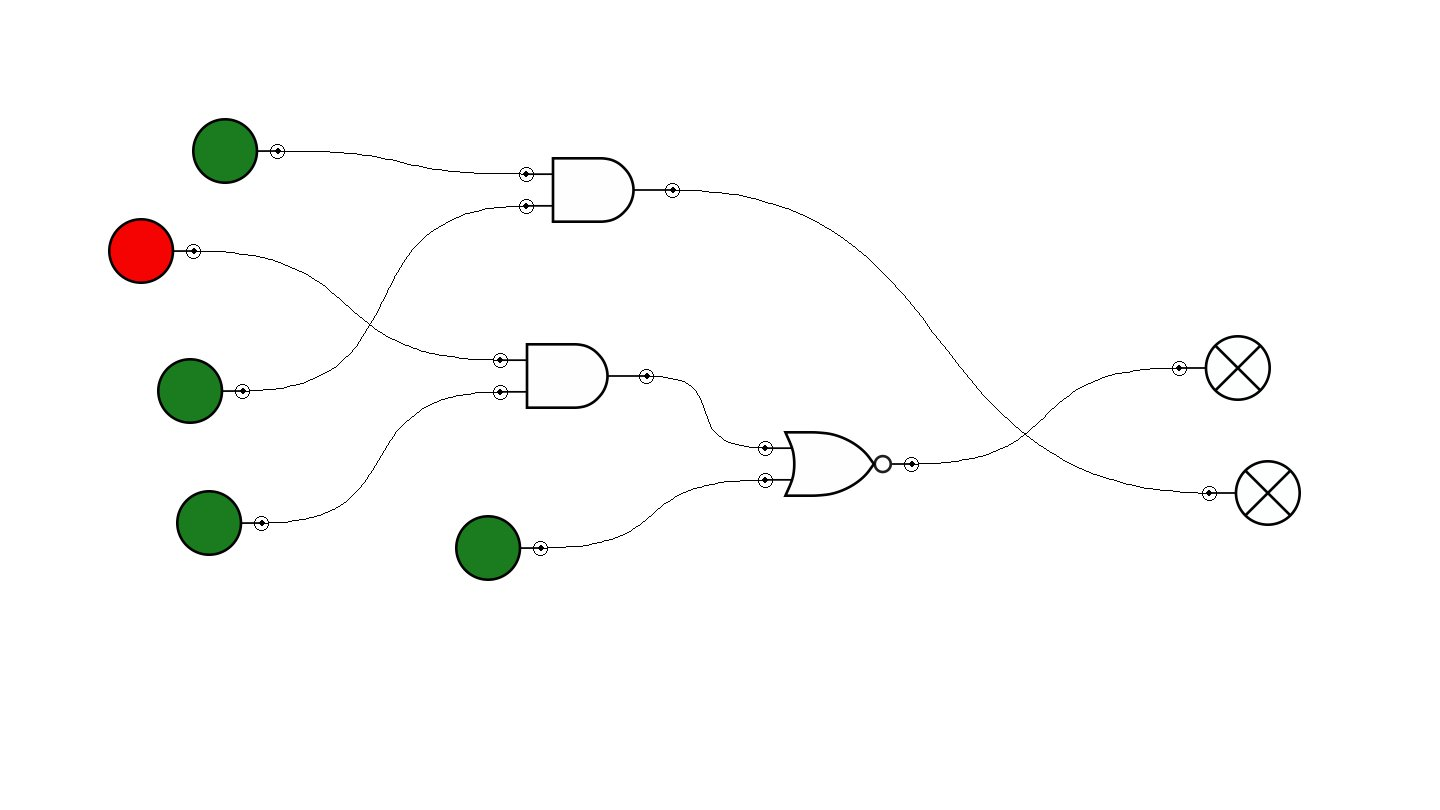and: (519, 157, 680, 223), (493, 343, 654, 409)
bulb: (1202, 460, 1301, 526), (1172, 335, 1271, 401)
nor: (758, 431, 919, 497)
switch_False: (108, 218, 201, 284)
switch_True: (157, 358, 250, 424), (192, 118, 285, 184), (176, 490, 269, 556), (455, 515, 548, 581)
